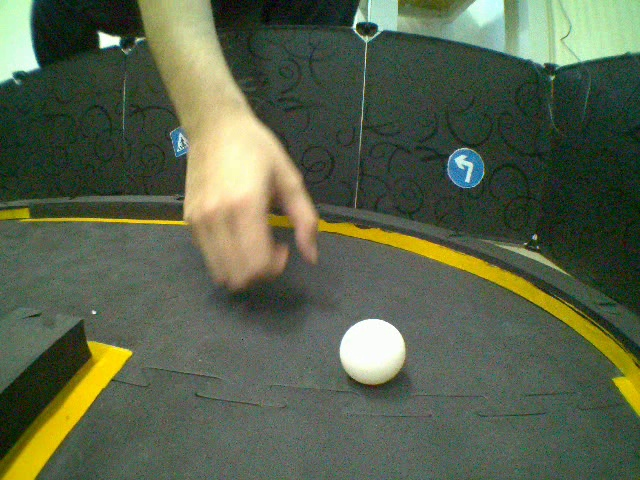ball: (336, 314, 409, 390)
